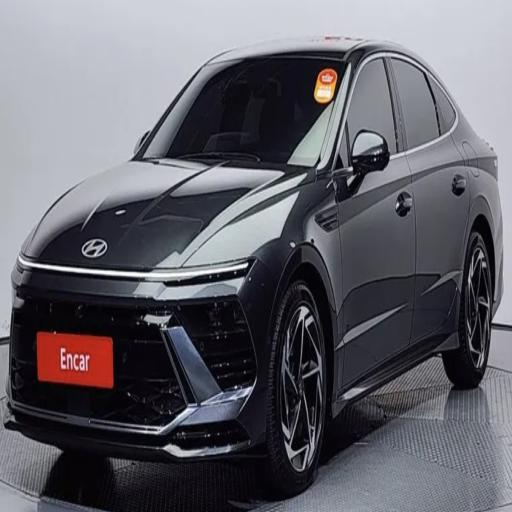normal: (4, 9, 508, 491)
